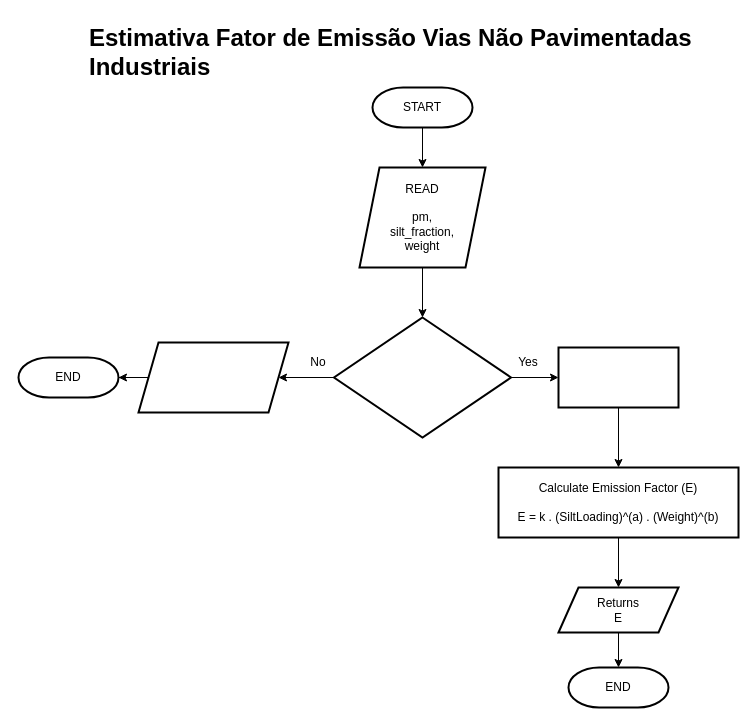
The diagram is 756 pixels wide and 725 high, and some of its shapes have lost their labels. Here are the shapes that lost their labels. From the top down, the centre of each, then its label:
the point at 213,377: WRITE Invalid pm value
the point at 422,377: Vaid pm value? (2.5, 10 ou 30)
the point at 618,377: Store corresponding K, a and b values
